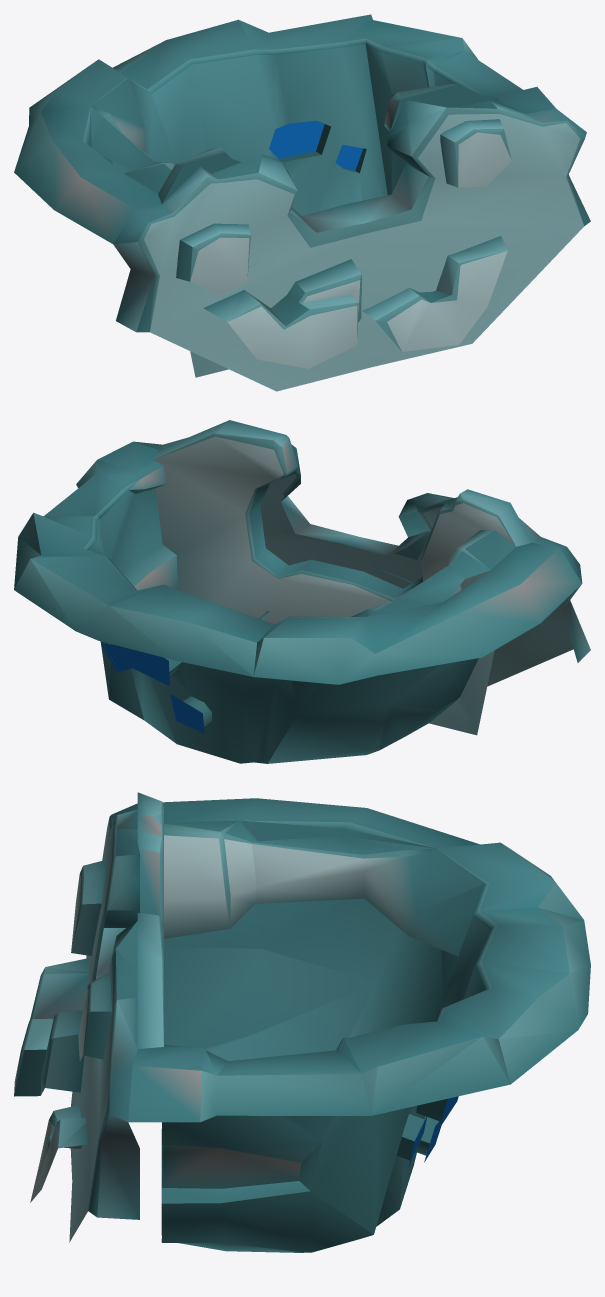
Rendered from EntryCaveRock.fbx.
3 renders of one model, top to bottom at view 1: azimuth 30°, elevation 25°; view 2: azimuth 150°, elevation 25°; view 3: azimuth 270°, elevation 25°, orthographic. The views are drawn at different scales.
Visible parts, largest first — view 1: EntryCaveRock; view 2: EntryCaveRock; view 3: EntryCaveRock.
Boxes of the visible parts, box(x1,y1,x2,y2) form: EntryCaveRock: box(14, 14, 590, 391); EntryCaveRock: box(14, 420, 590, 763); EntryCaveRock: box(14, 792, 590, 1252).
Size of the model in its own units: 2780 by 1341 by 2256.
